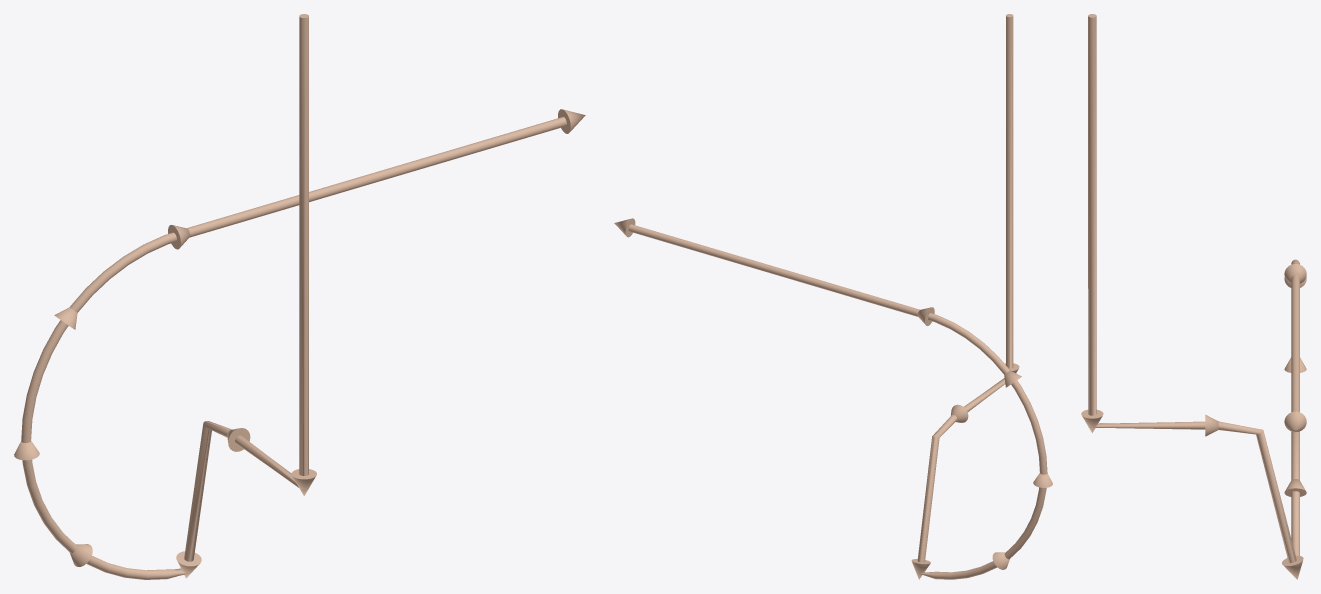
File: induced_draft_fan_flow.glb
3 views of the same model, side by side, from view 1: azimuth 30°, elevation 25°; view 2: azimuth 150°, elevation 25°; view 3: azimuth 270°, elevation 25° (orthographic). The views are drawn at different scales.
Visible parts, largest first — view 1: flue_gas; view 2: flue_gas; view 3: flue_gas.
Part boxes in pixels (x1,y1,x2,y2): flue_gas: (14, 14, 585, 579); flue_gas: (614, 14, 1052, 579); flue_gas: (1081, 14, 1306, 579).
Bounding box in the file's own units: 1.59 × 1.73 × 0.6274.
